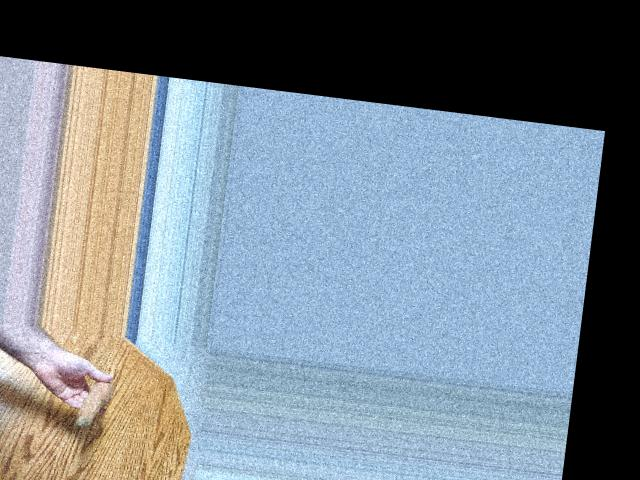sweet_potato: (72, 374, 113, 430)
